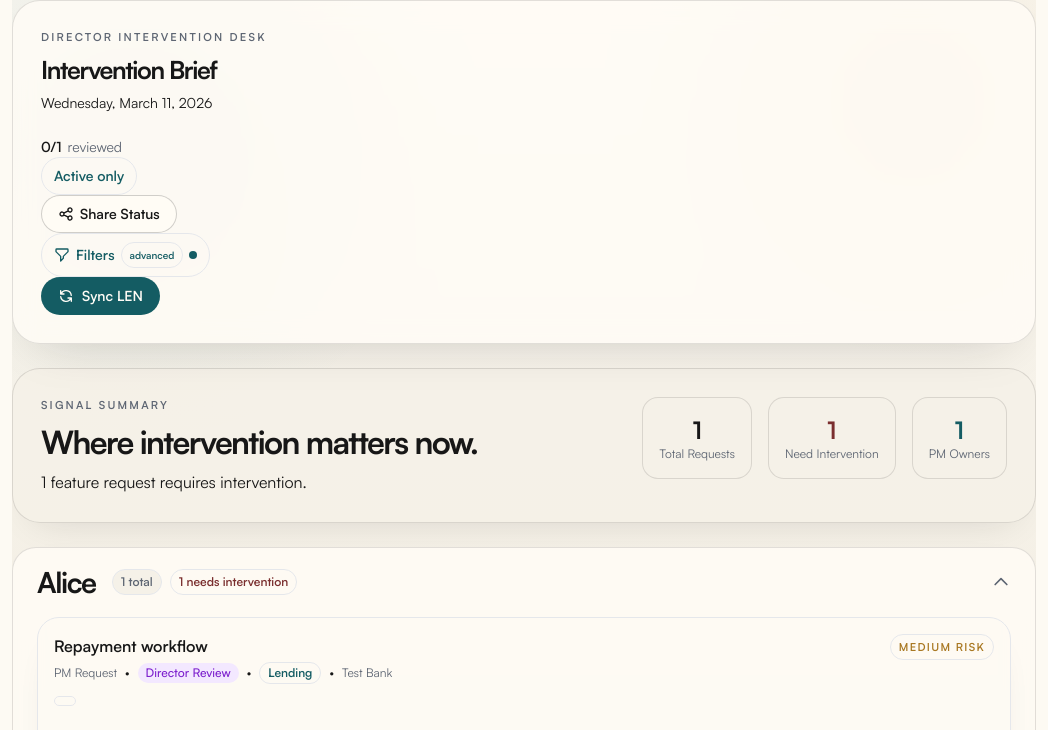
Test: intervention page review refresh › keeps the intervention brief visible when sync fails due to missing configuration
Expected: the heading "Intervention Brief" is shown, [41,54,216,84]
Step 1. Click the button "Sync LEN" → (100, 296), box [41,277,160,315]
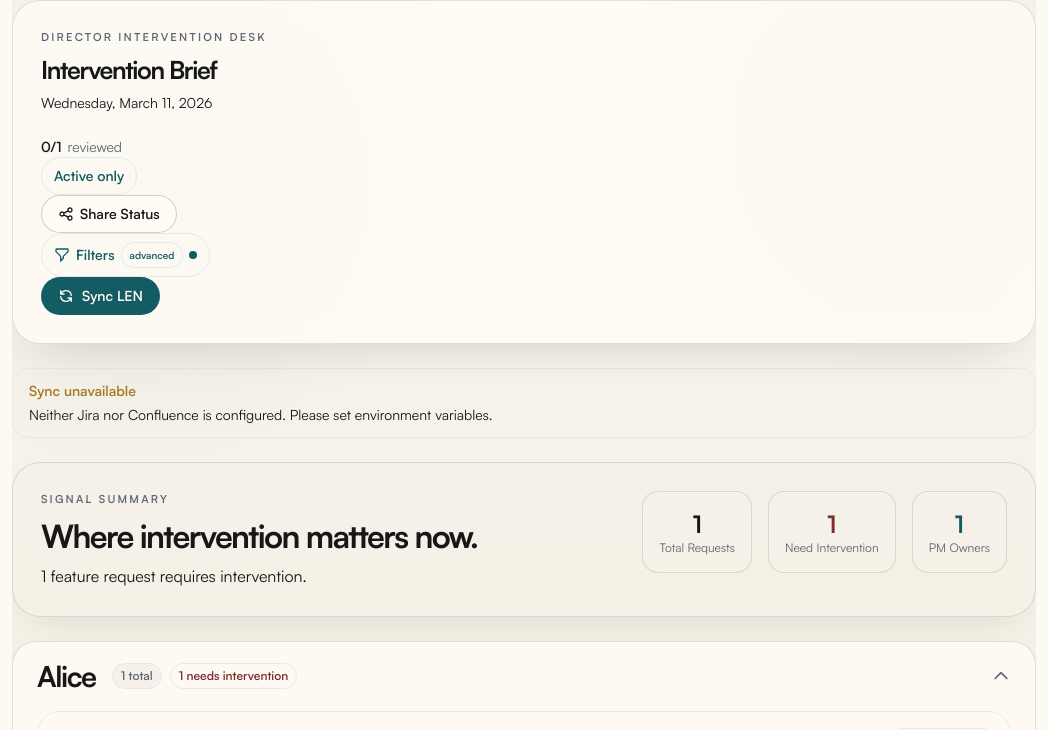
Expected: the text "Signal summary" is shown, [41,492,169,506]
Now the text "Sync unavailable" is shown, box [29,382,136,399]
Now the text "Neither Jira nor Confluence is configured. Please set environment variables." is shown, box [29,406,492,423]
